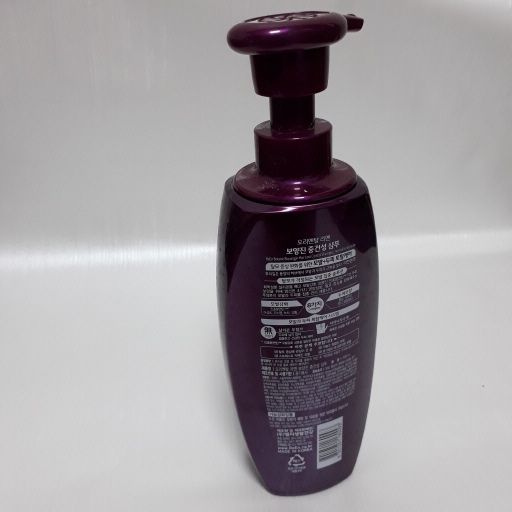Plastic_3: (214, 7, 379, 496)
